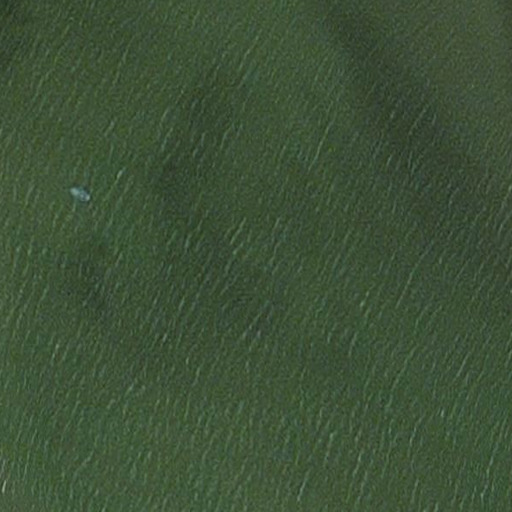ship: (66, 183, 93, 205)
